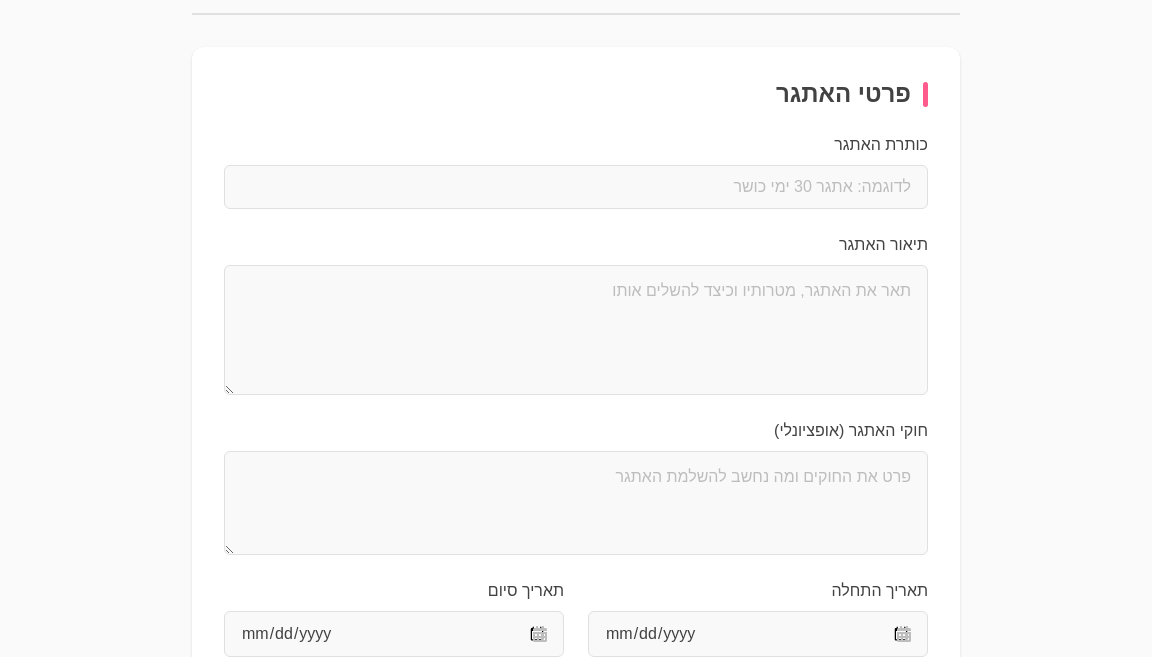
Test: CreateChallengeForm component › 5. Validates date range logic
Type "Test" into the field labelled "כותרת האתגר" at x=576, y=187, box [224,165,928,209]
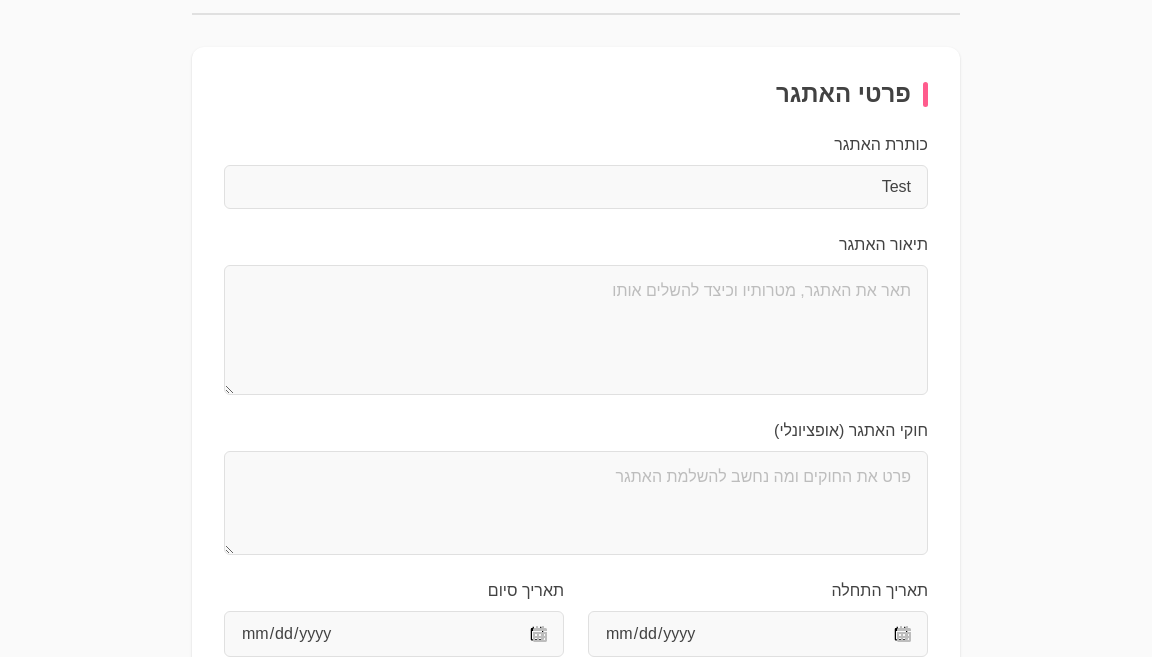
Type "desc" into the text box labelled "תיאור האתגר" at x=576, y=330, box [224,265,928,395]
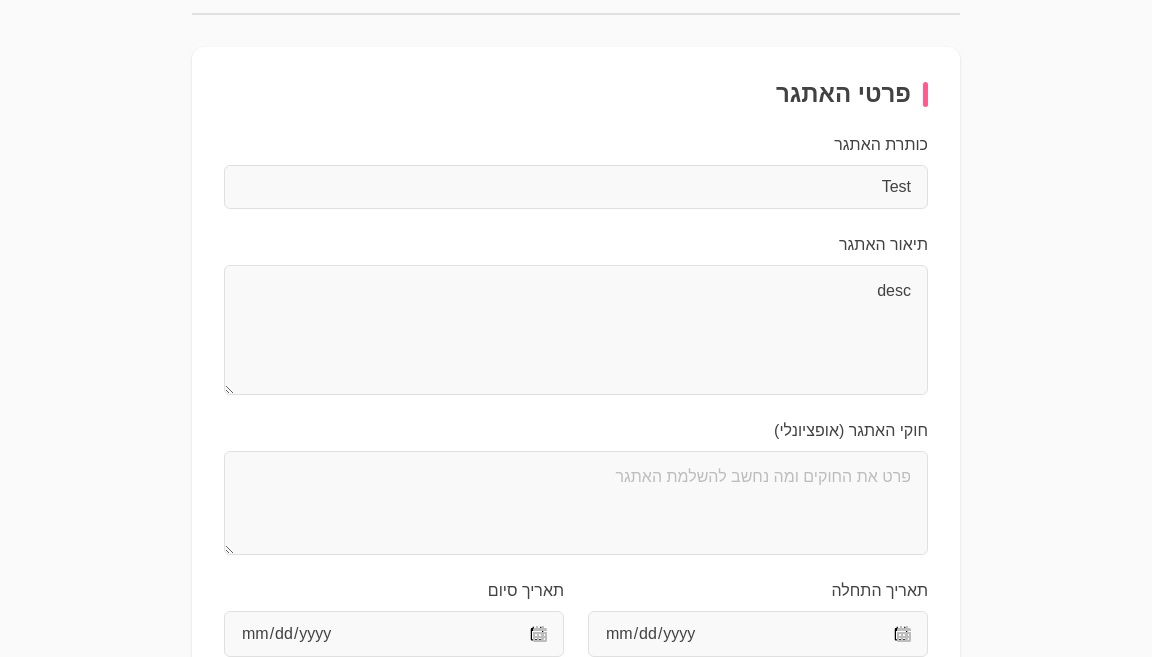
Type "2025-05-10" into the date field labelled "תאריך התחלה" at x=758, y=634, box [588,611,928,656]
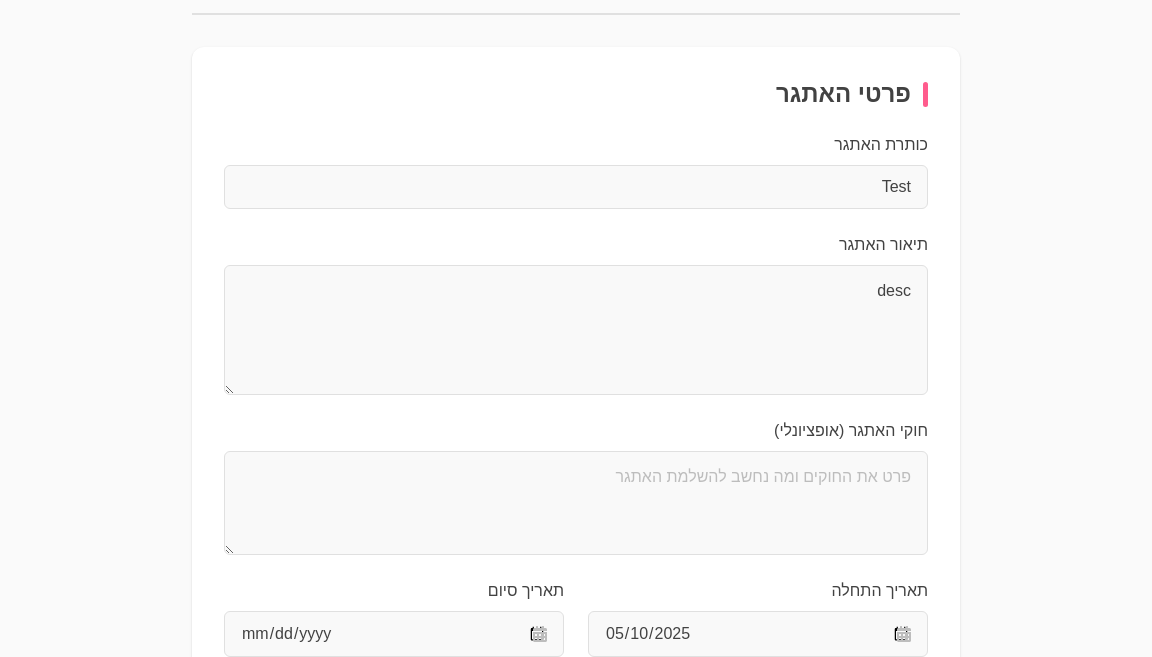
Type "2025-05-01" into the date field labelled "תאריך סיום" at x=394, y=634, box [224,611,564,656]
(page scrolled)
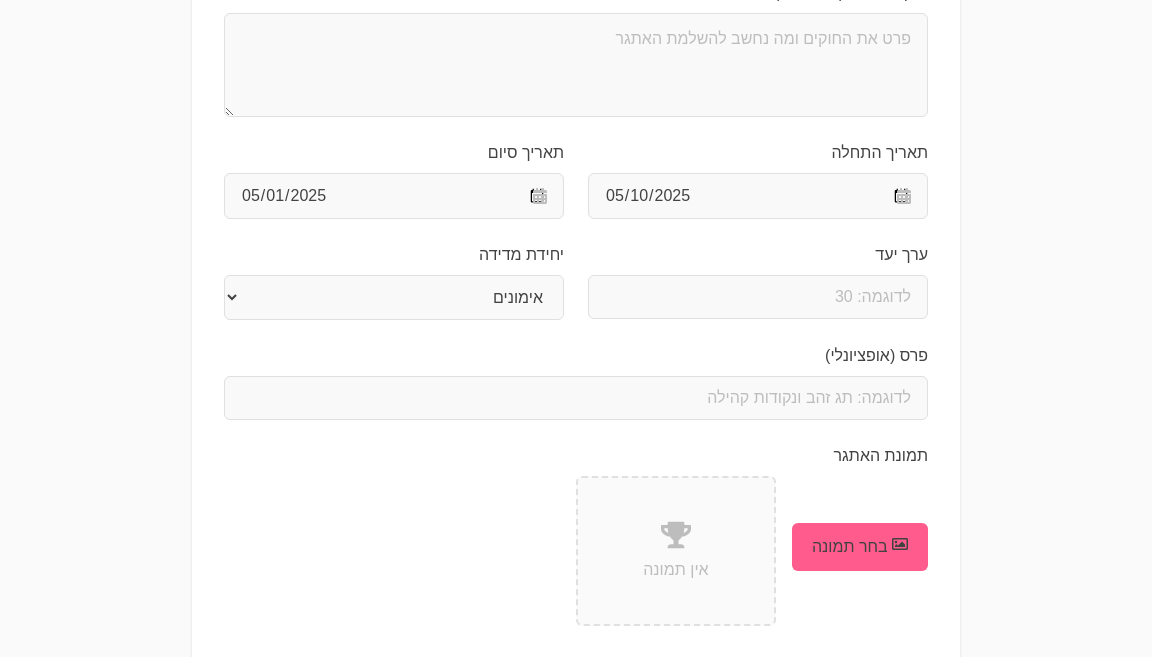
Type "10" into the number field labelled "ערך יעד" at x=758, y=297, box [588,275,928,319]
(page scrolled)
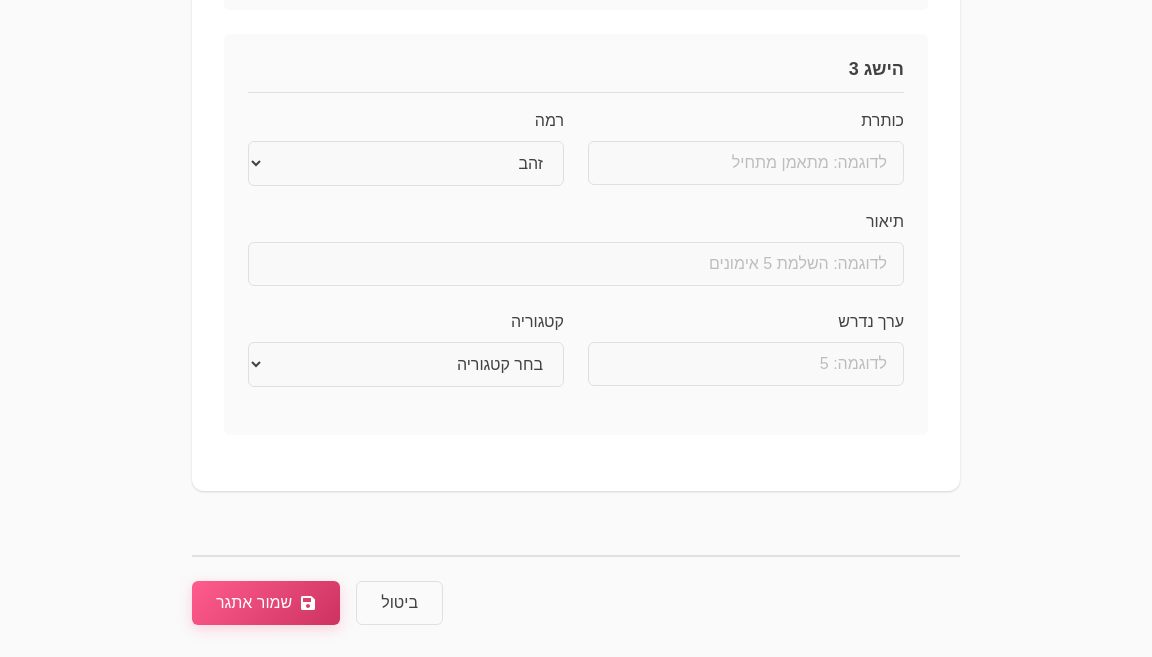
Click the button "שמור אתגר" at x=266, y=603, box [192,581,340,625]
(page scrolled)
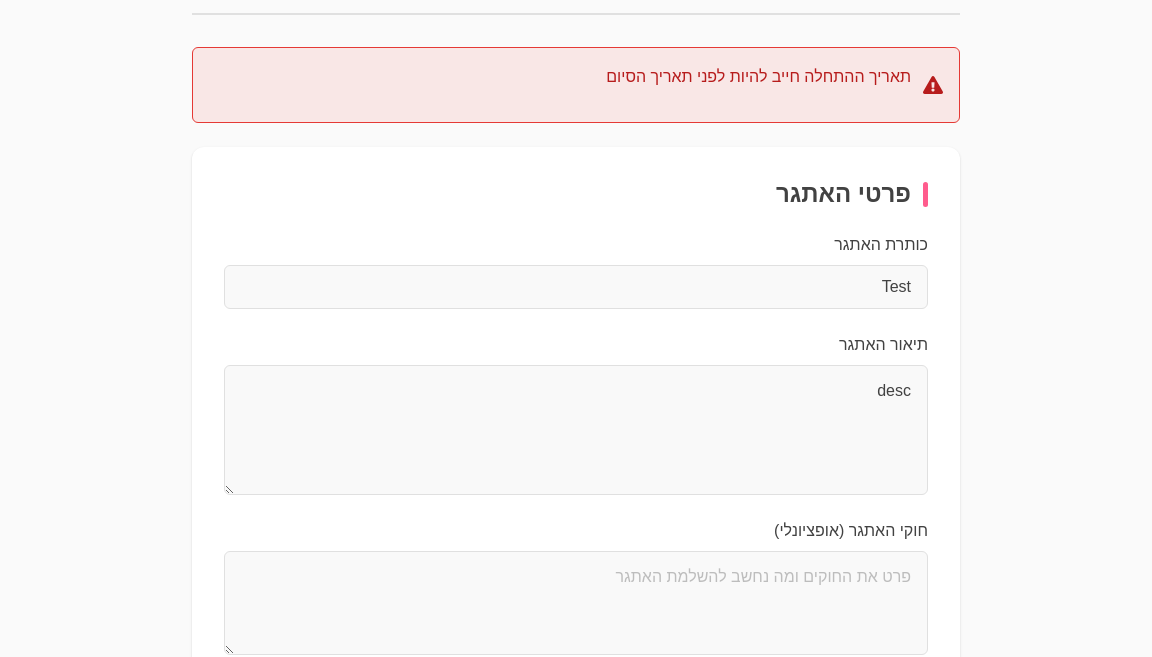
Expected: the text "תאריך ההתחלה חייב להיות לפני תאריך הסיום" is shown, [606,64,911,90]
